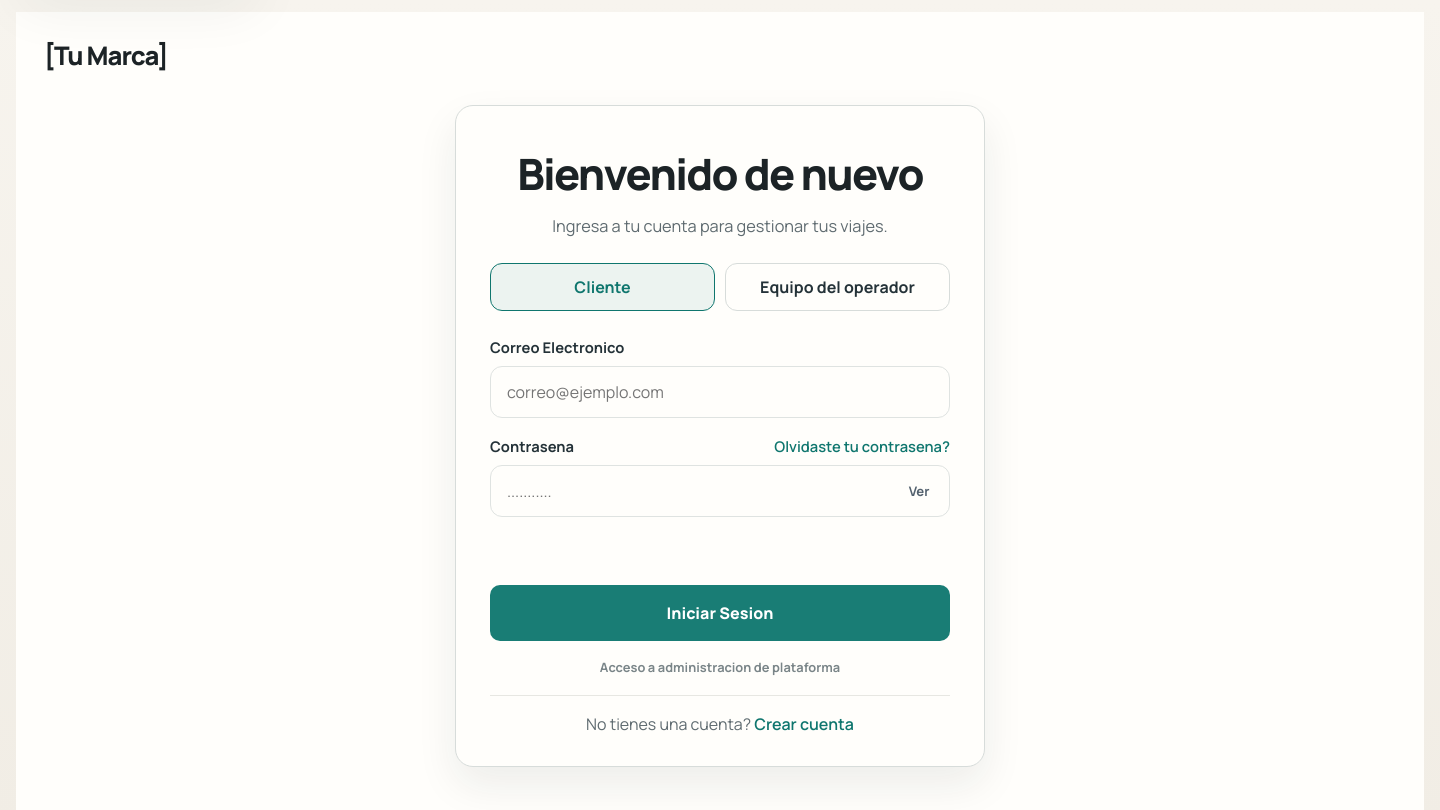
Test: LoginComponent (login real Cliente/Staff via LoginUseCase — Fase 5) › login fallido: muestra el mensaje de error ya normalizado por el caso de uso y NO guarda sesión ni navega
Type "laura@example.com" into the field named "email" at (720,392), box [490,366,950,418]
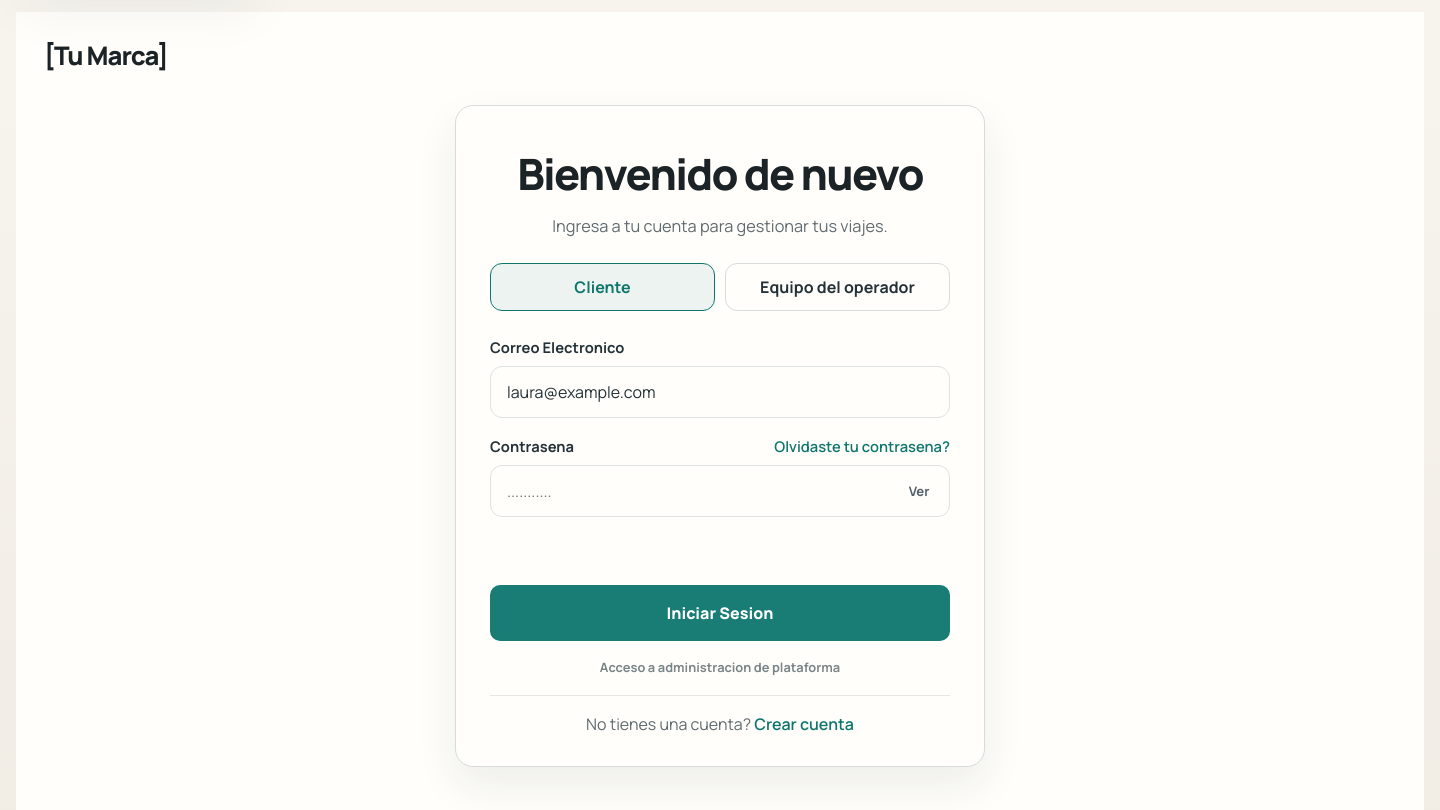
Type "clave-incorrecta" into the password field named "password" at (720,491), box [490,465,950,517]
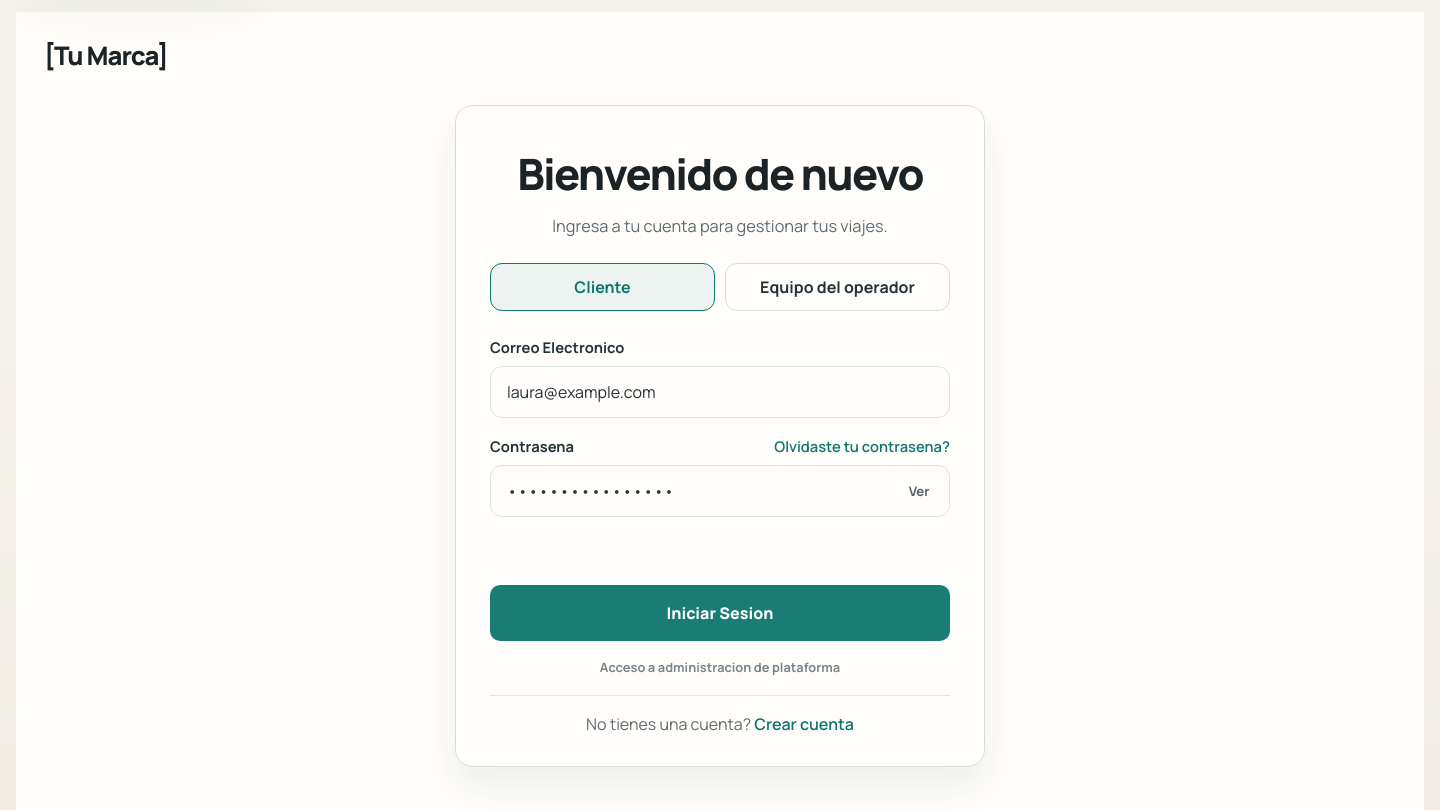
Submit the form, box [490,337,950,641]
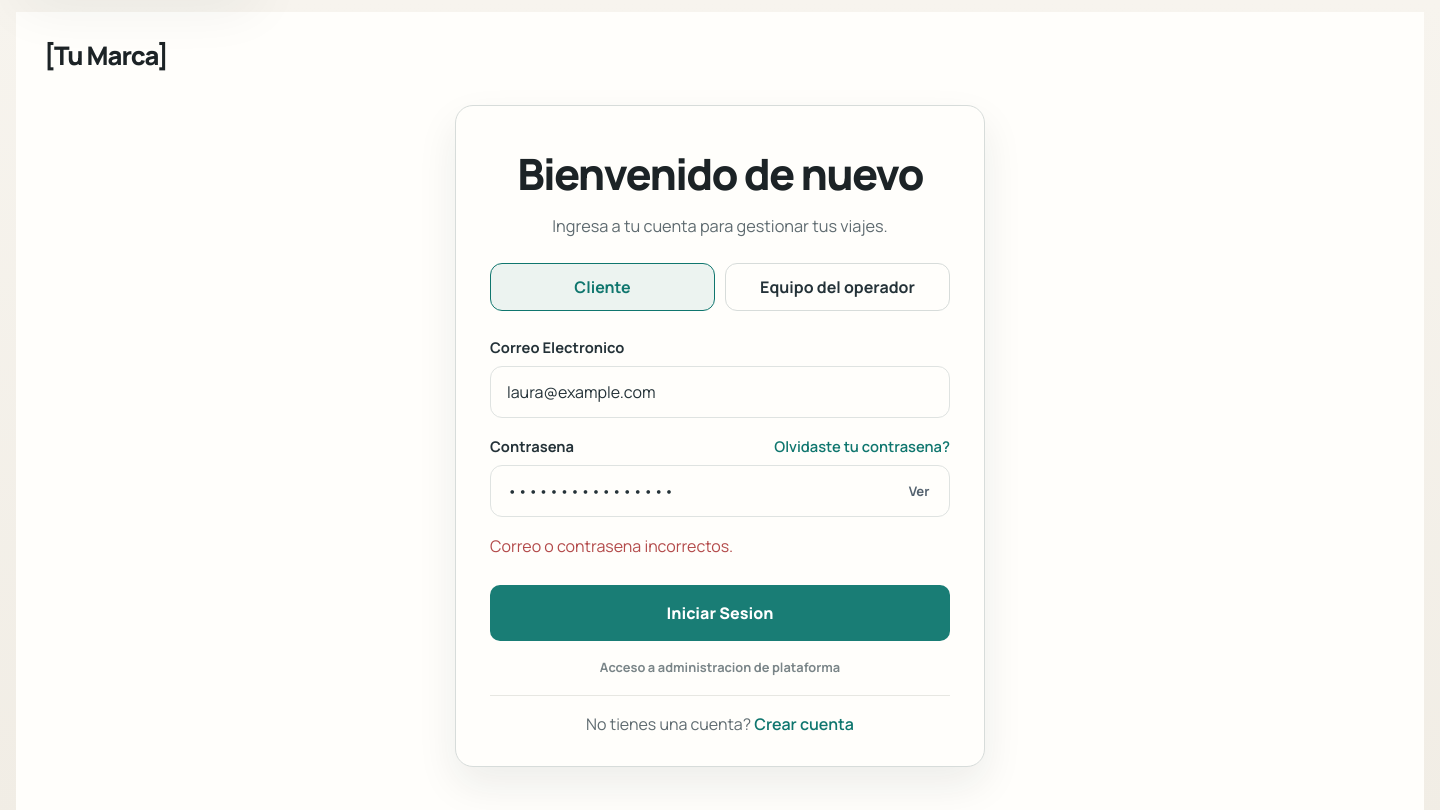
Expected: the text "Correo o contrasena incorrectos." is shown, [490,535,733,557]
